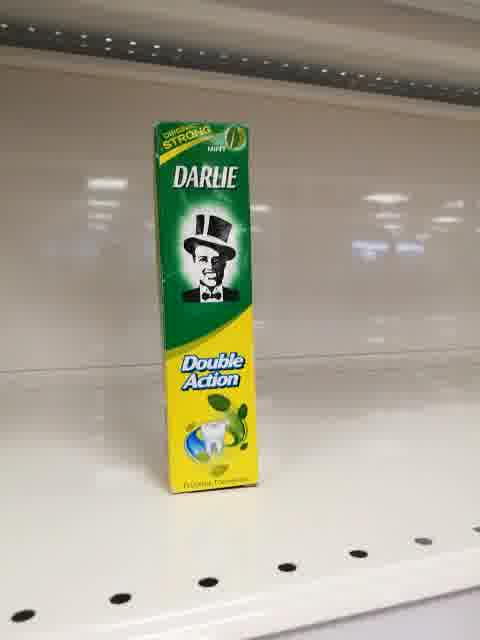toothpaste: (152, 121, 260, 495)
